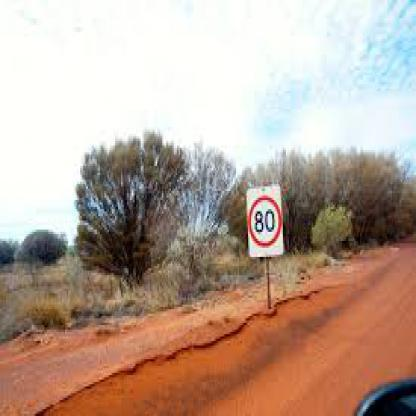Speed Limit 80: (249, 196, 281, 244)
